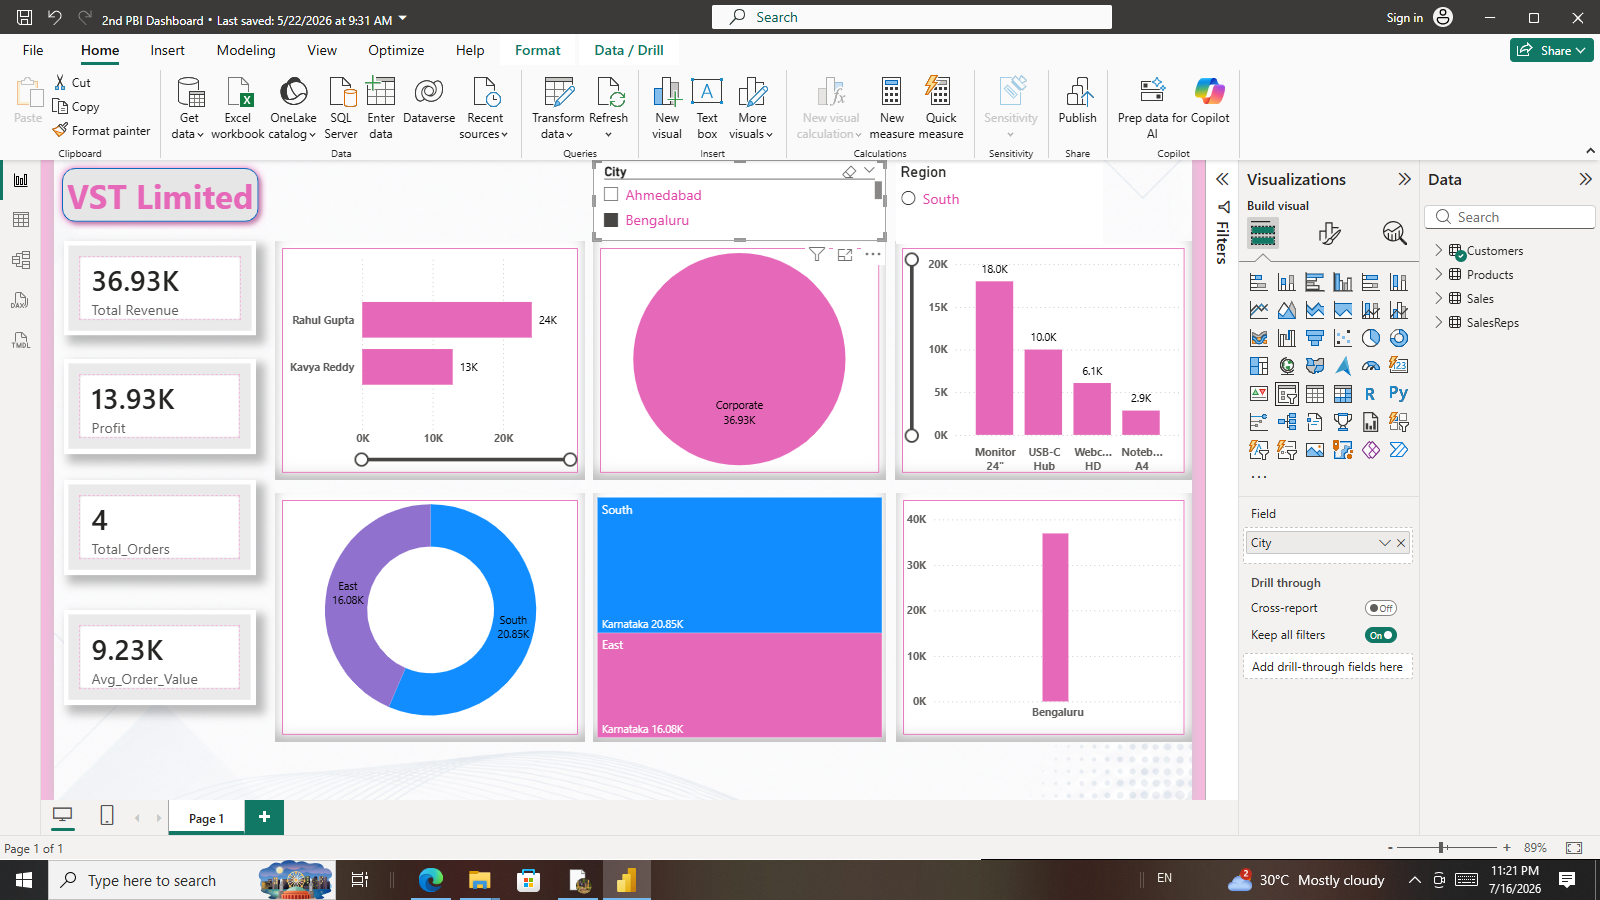

What the dashboard file says about the page in this screenshot:
{"tool":"powerbi","page":{"name":"Page 1","canvas":[1280,720],"ordinal":0},"visuals":[{"type":"shape","box":[0,0,239,78.4],"z":0},{"type":"cardVisual","fields":{"Data":["Customers.Total Revenue"]},"box":[11.2,91.2,216.2,106.2],"z":1000},{"type":"cardVisual","fields":{"Data":["Customers.Profit"]},"box":[11.6,223.6,215.9,106.7],"z":2000},{"type":"cardVisual","fields":{"Data":["Customers.Total_Orders"]},"box":[11.6,359.8,215.9,106.7],"z":3000},{"type":"cardVisual","fields":{"Data":["Customers.Avg_Order_Value"]},"box":[11.6,506.3,215.9,106.7],"z":4000},{"type":"shape","box":[248.8,91.2,348.8,268.8],"z":5000},{"type":"shape","box":[606.2,91.2,330,268.8],"z":6000},{"type":"shape","box":[248.8,375,348.8,280],"z":7000},{"type":"shape","box":[606.2,375,330,280],"z":8000},{"type":"shape","box":[946.2,91.2,333.8,268.8],"z":9000},{"type":"shape","box":[947.5,375,332.5,280],"z":10000},{"type":"clusteredBarChart","fields":{"Category":["Customers.CustomerName"],"Y":["Sum(Sales.TotalAmount)"]},"box":[258.8,98.8,338.8,248.8],"z":11000},{"type":"ribbonChart","fields":{"Category":["Customers.City"],"Y":["Sum(Sales.TotalAmount)"]},"box":[953.8,390,318.8,248.8],"z":12000},{"type":"pieChart","fields":{"Category":["Customers.Segment"],"Y":["Sum(Sales.TotalAmount)"]},"box":[542.5,53.8,457.5,340],"z":13000},{"type":"donutChart","fields":{"Category":["SalesReps.Region"],"Y":["Sum(Sales.TotalAmount)"]},"box":[226.2,321.2,395,368.8],"z":14000},{"type":"treemap","fields":{"Group":["SalesReps.Region","Customers.City"],"Details":["Customers.State"],"Values":["Sum(Sales.TotalAmount)"]},"box":[606.2,375,330,280],"z":15000},{"type":"columnChart","fields":{"Category":["Products.ProductName"],"Y":["Sum(Sales.TotalAmount)"]},"box":[953.8,98.8,318.8,261.2],"z":16000},{"type":"listSlicer","fields":{"Values":["Customers.Region"]},"box":[947.2,3.4,232.9,91.1],"z":17000},{"type":"slicer","fields":{"Values":["Customers.City"]},"box":[606.4,0,329.6,91.1],"z":18000}]}

Visuals, with their boxes on the page's 1280x720 design canvas (x1, y1, x2, y2). These are canvas units, not pixel positions in the 1600x900 screenshot, which may show the page scaled, cropped or inside an application window:
shape: locate(0, 0, 239, 78)
cardVisual - Customers.Total Revenue: locate(11, 91, 227, 197)
cardVisual - Customers.Profit: locate(12, 224, 228, 330)
cardVisual - Customers.Total_Orders: locate(12, 360, 228, 466)
cardVisual - Customers.Avg_Order_Value: locate(12, 506, 228, 613)
shape: locate(249, 91, 598, 360)
shape: locate(606, 91, 936, 360)
shape: locate(249, 375, 598, 655)
shape: locate(606, 375, 936, 655)
shape: locate(946, 91, 1280, 360)
shape: locate(948, 375, 1280, 655)
clusteredBarChart - Customers.CustomerName x Sum(Sales.TotalAmount): locate(259, 99, 598, 348)
ribbonChart - Customers.City x Sum(Sales.TotalAmount): locate(954, 390, 1273, 639)
pieChart - Customers.Segment x Sum(Sales.TotalAmount): locate(542, 54, 1000, 394)
donutChart - SalesReps.Region x Sum(Sales.TotalAmount): locate(226, 321, 621, 690)
treemap - SalesReps.Region x Customers.City: locate(606, 375, 936, 655)
columnChart - Products.ProductName x Sum(Sales.TotalAmount): locate(954, 99, 1273, 360)
listSlicer - Customers.Region: locate(947, 3, 1180, 94)
slicer - Customers.City: locate(606, 0, 936, 91)
